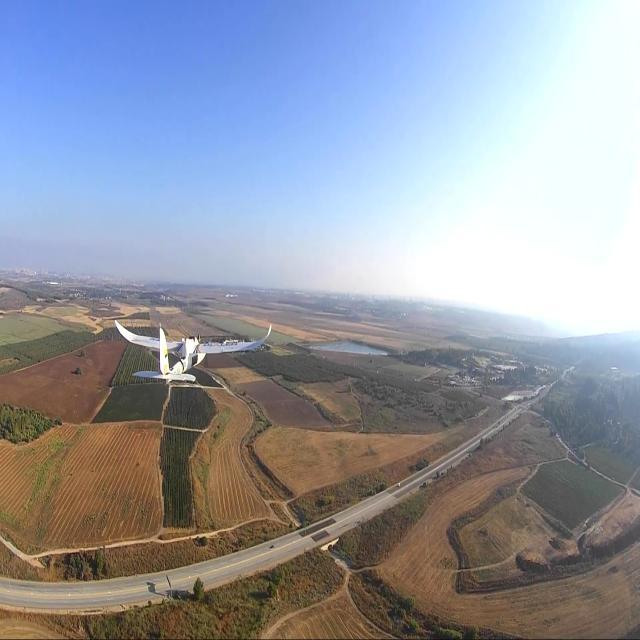iha: (107, 345, 274, 357)
